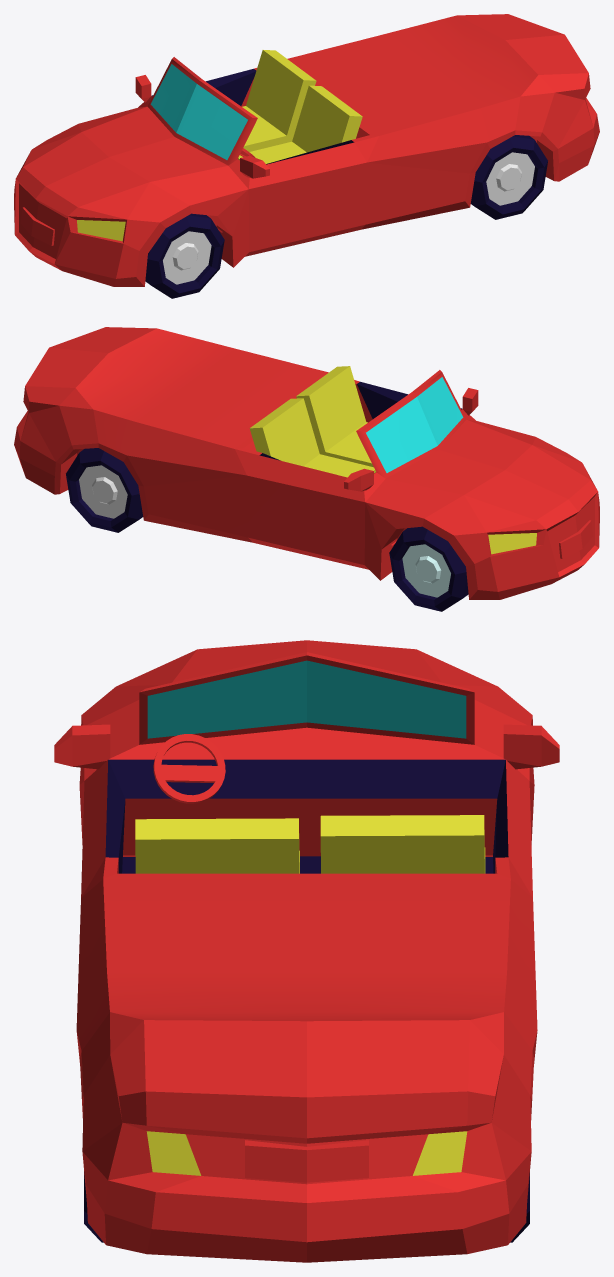
File: Car_Model.fbx
3 renders of one model, top to bottom at view 1: azimuth 30°, elevation 25°; view 2: azimuth 150°, elevation 25°; view 3: azimuth 270°, elevation 25°, orthographic. The views are drawn at different scales.
Parts seen in each view (by area): view 1: Car 2, Wheel2-4, Wheel2-3; view 2: Car 2, Wheel2-2, Wheel2-1; view 3: Car 2.
Part boxes in pixels (bbox=[...]): Car 2: bbox=[14, 14, 599, 286]; Wheel2-4: bbox=[145, 213, 224, 298]; Wheel2-3: bbox=[470, 135, 547, 219]; Car 2: bbox=[14, 327, 599, 599]; Wheel2-2: bbox=[389, 526, 468, 611]; Wheel2-1: bbox=[66, 448, 143, 532]; Car 2: bbox=[54, 640, 559, 1262].
Size of the model in its own units: 527 by 149 by 209.
